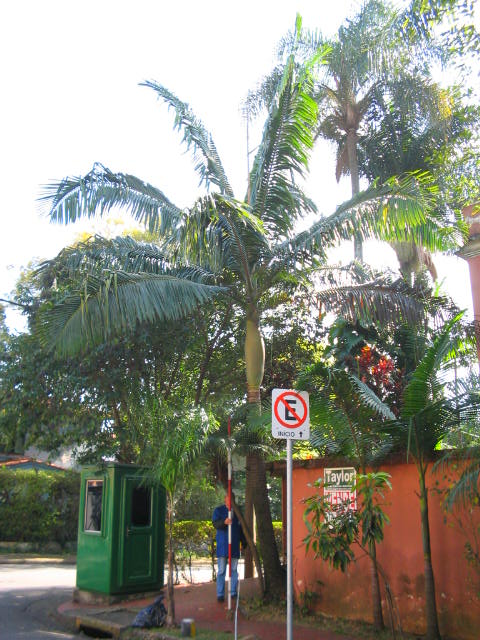crown: (39, 18, 457, 405)
stem: (233, 341, 290, 607)
stick: (219, 415, 237, 608)
tree: (36, 17, 458, 609)
